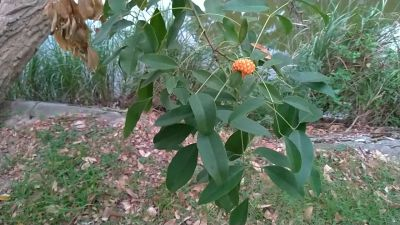eggs: (231, 53, 258, 77)
